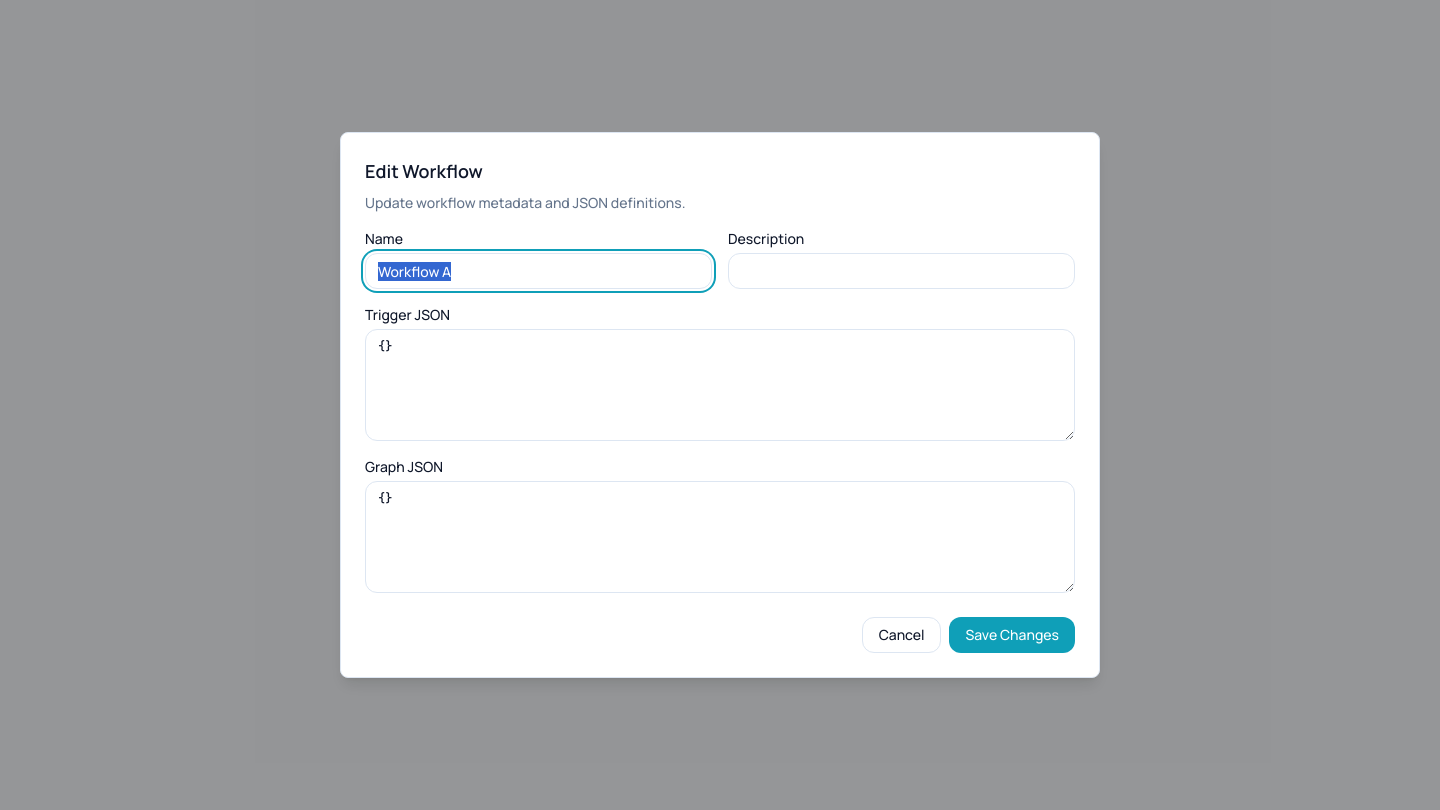
Test: workflow edit modal › validates JSON/object inputs and blocks submit
Clear the field labelled "Name" at (538, 271), box [365,253,712,289]
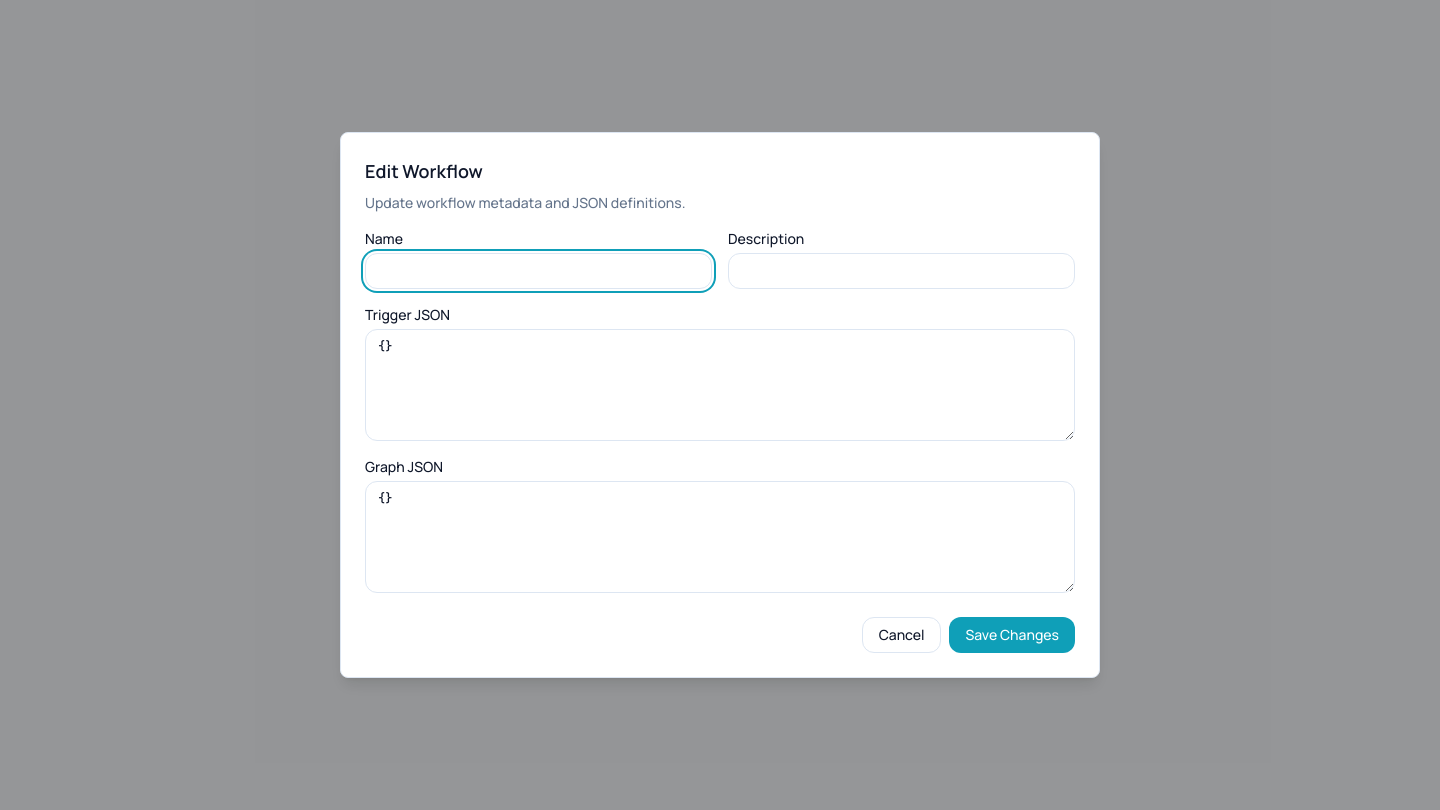
Replace the text in the text box labelled "Trigger JSON" with "[ [" at (720, 385), box [365,329,1075,441]
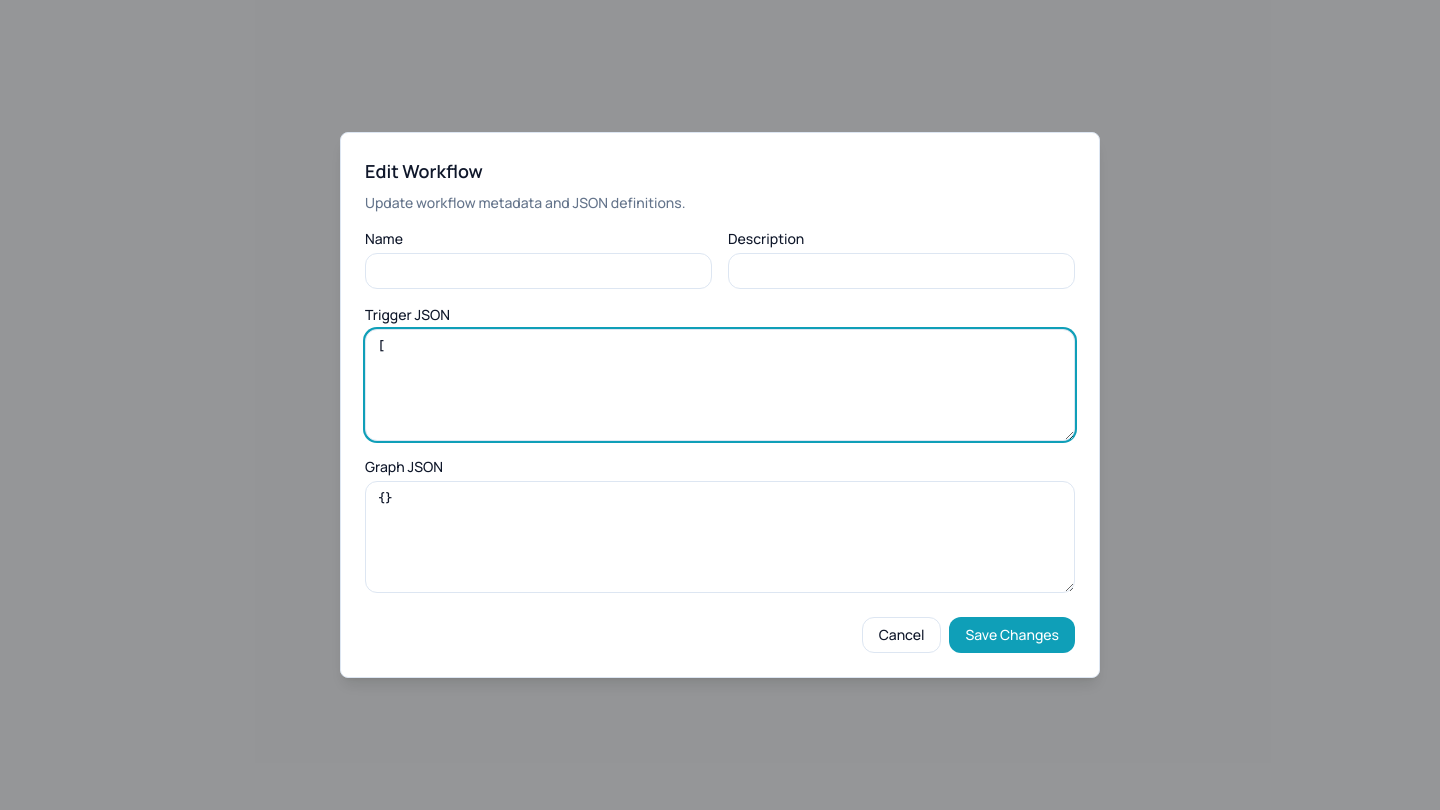
Click the button "Save Changes" at (1012, 635), box [950,617,1075,653]
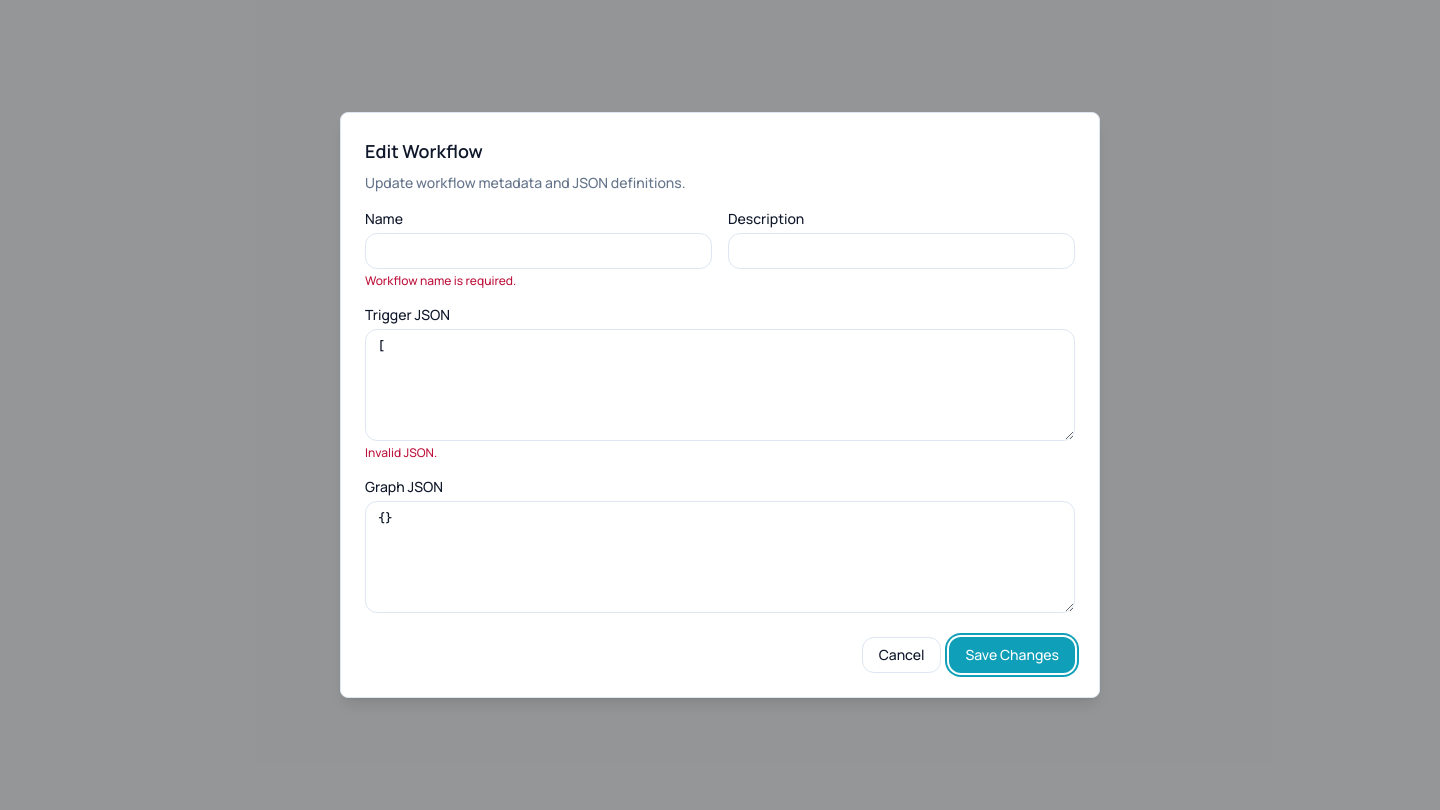
Check: the text "Workflow name is required." is shown, box [365,272,516,289]
Check: the text "Invalid JSON." is shown, box [365,444,437,461]
